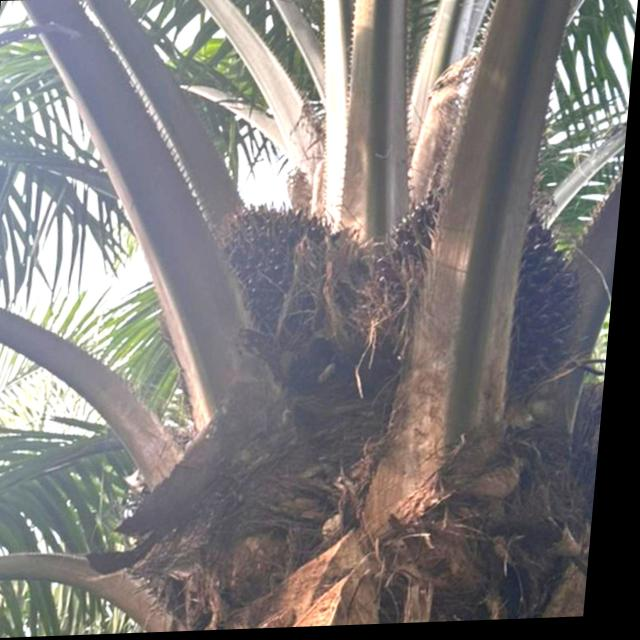unripe: (369, 173, 609, 419), (199, 186, 392, 389)
